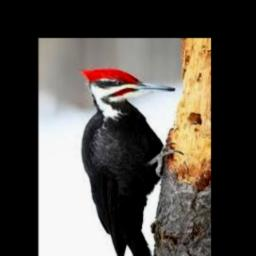Woodpecker: (82, 69, 183, 256)
